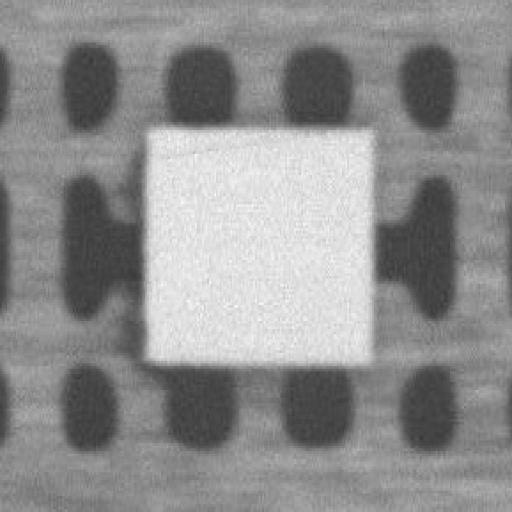DIE_CRACK: (236, 87, 486, 103)
